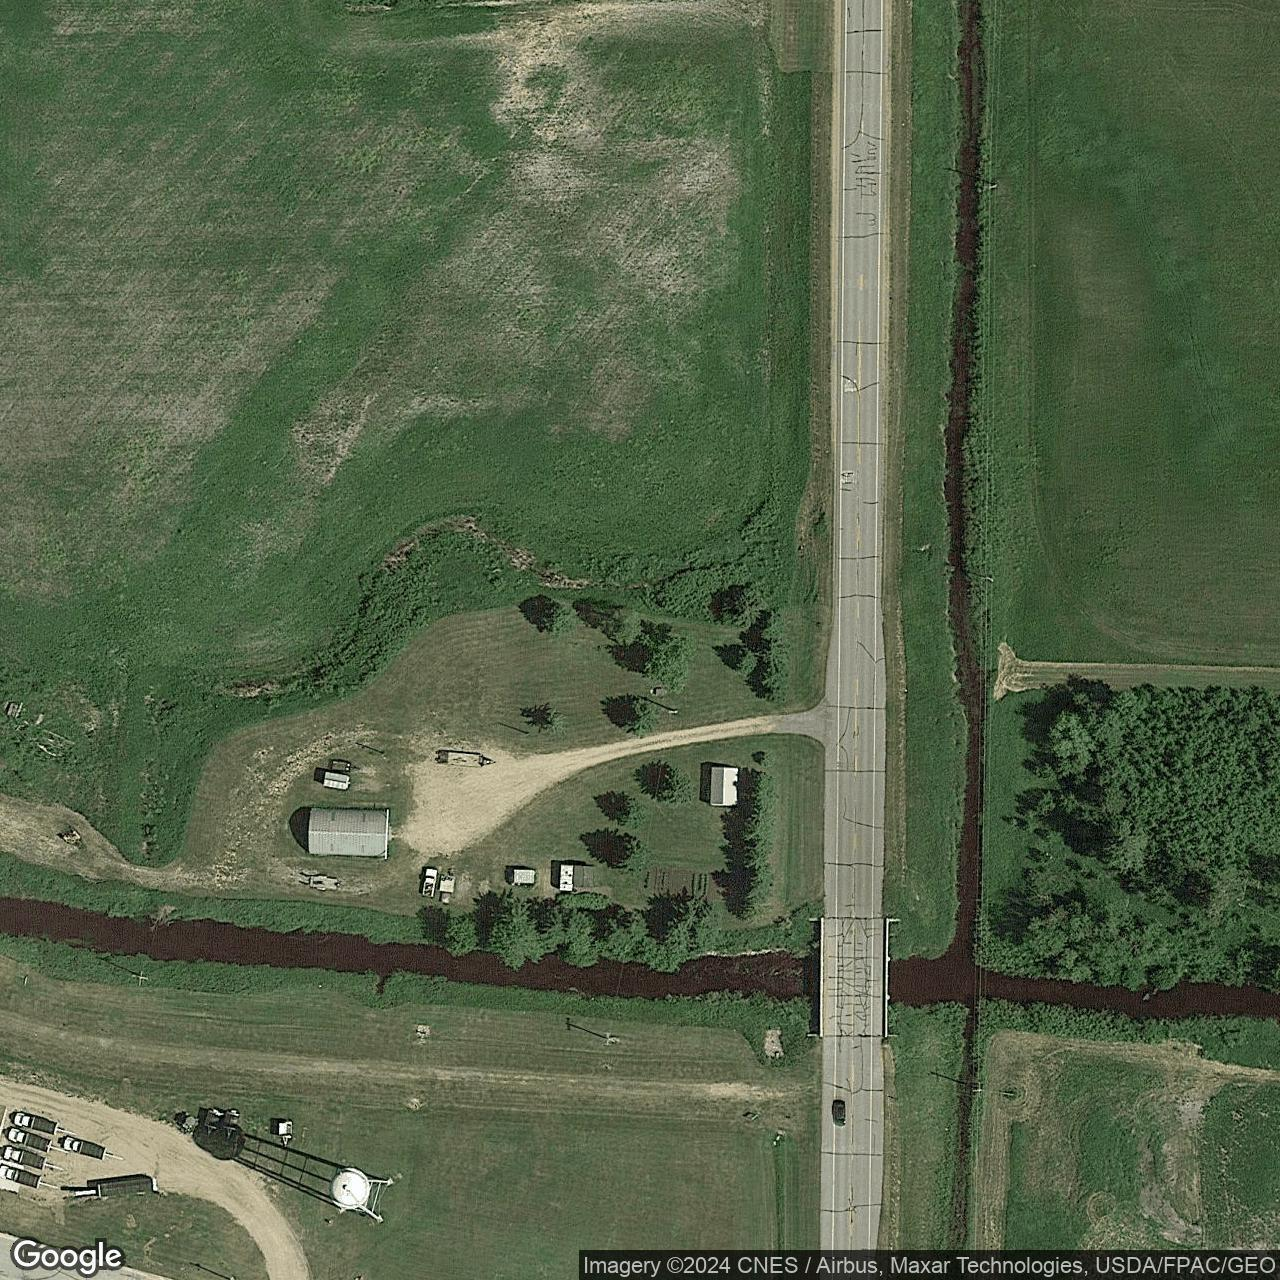Garage: (308, 806, 390, 860), (712, 768, 738, 806)
